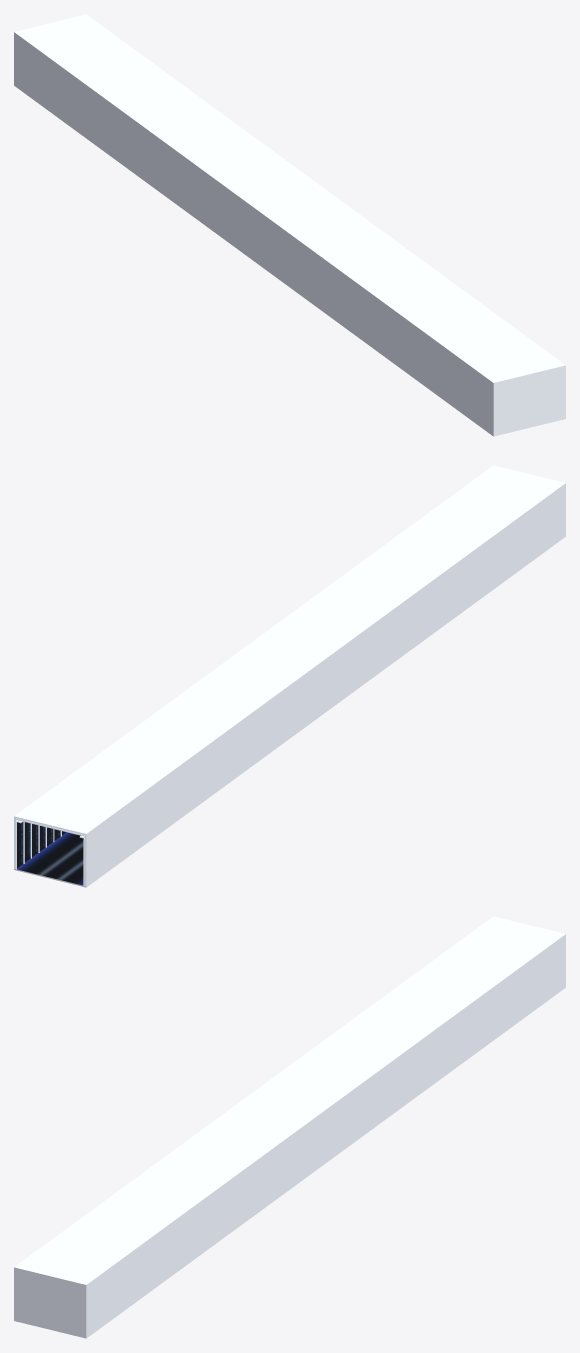
File: datahall.glb
3 views of the same model, one above another, from view 1: azimuth 30°, elevation 25°; view 2: azimuth 150°, elevation 25°; view 3: azimuth 330°, elevation 25° (orthographic).
Parts seen in each view (by area): view 1: Case; view 2: Case, Floor, Racks, Frame; view 3: Case.
Boxes of the visible parts, x1,y1,x2,y2 form: Case: (14,14,565,436); Case: (14,465,565,887); Floor: (17,832,83,885); Racks: (16,822,66,868); Frame: (14,816,86,886); Case: (14,916,565,1338).
Bounding box in the file's own units: 24.6 × 17.4 × 282.
Materials: 8 (2 with a texture image).
